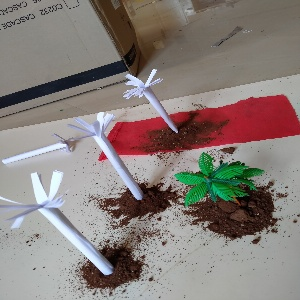plant: (173, 143, 274, 219)
weed: (2, 178, 125, 279), (68, 108, 146, 207), (115, 68, 187, 140), (1, 133, 81, 169)
